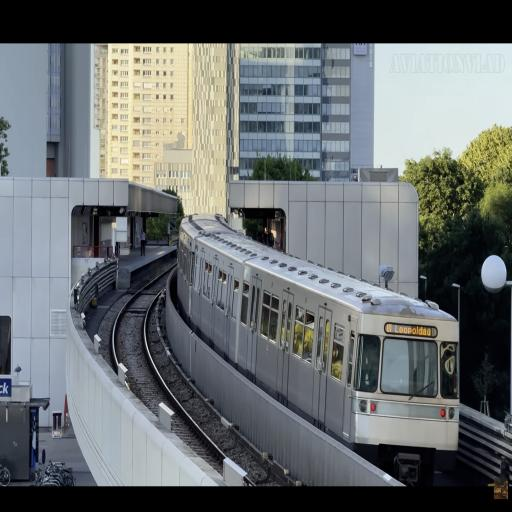Silberpfeil: (178, 211, 463, 464)
